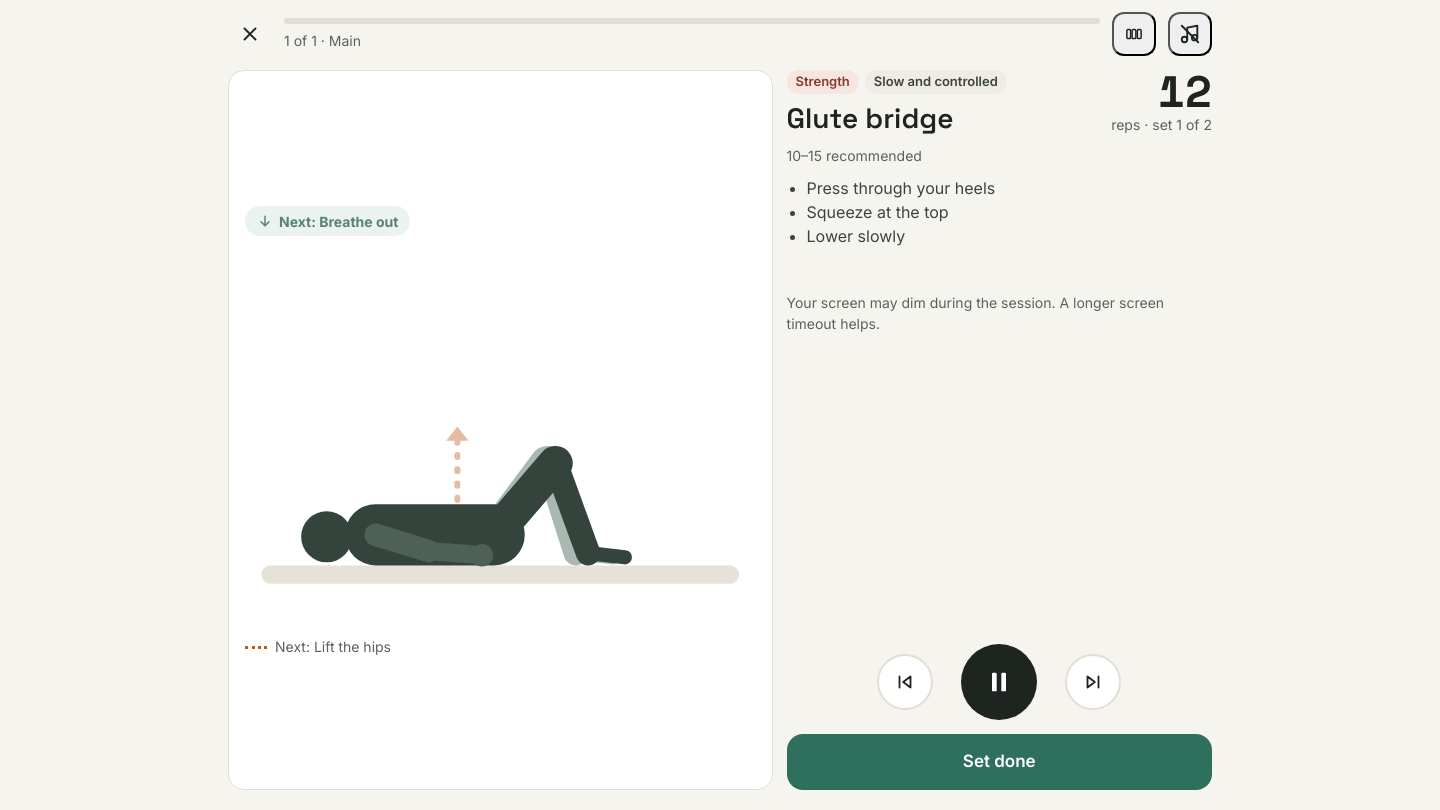
Scenario: PlayerScreen › runs a single exercise: sets, rating, summary, saved
Expected: the text "reps · set 1 of 2" is shown, [1111,116,1212,133]
Click the button "Set done": x=999, y=762 [786,734,1212,790]
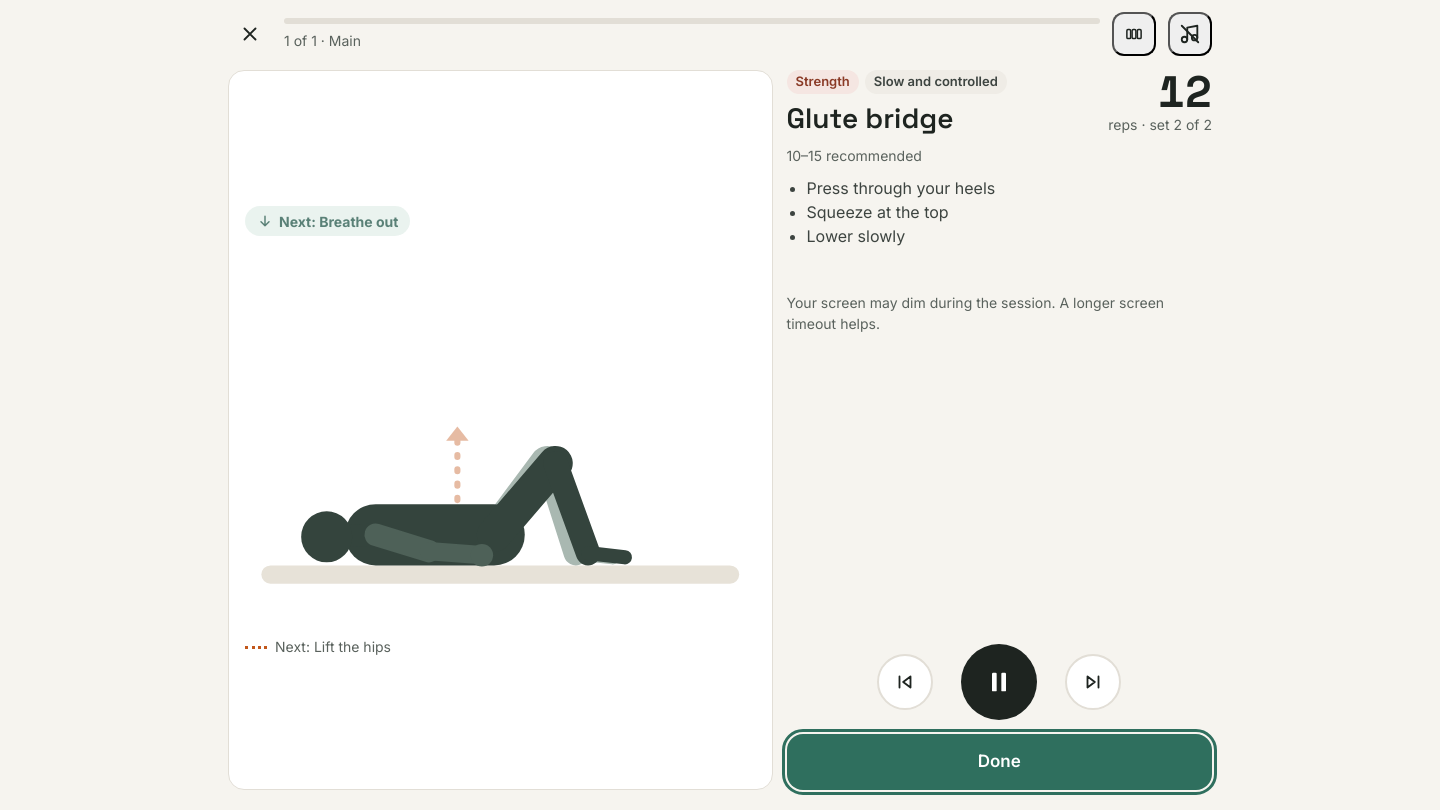
Expected: the text "reps · set 2 of 2" is shown, [1092,114,1212,135]
Click the button "Done": x=999, y=762 [786,734,1212,790]
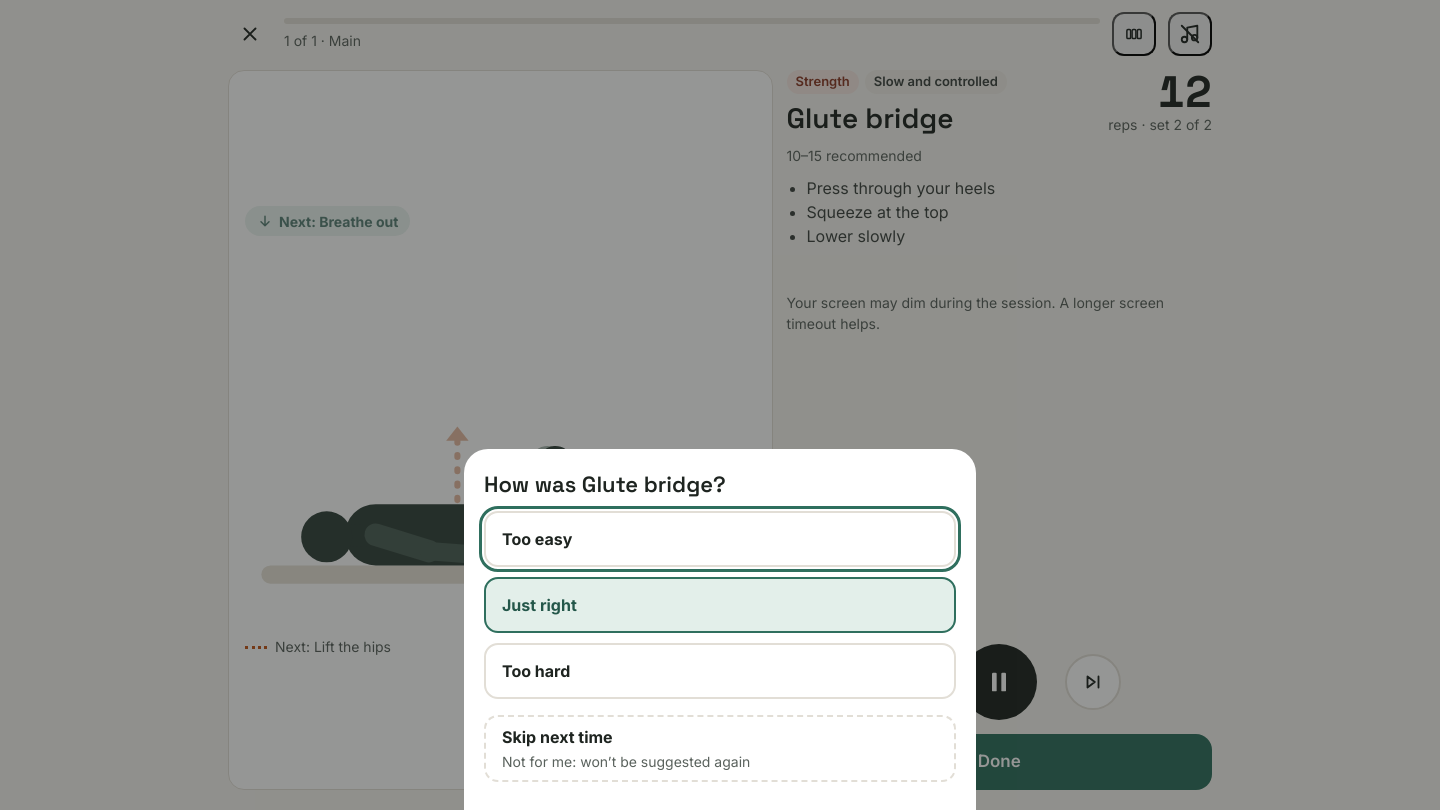
Expected: the dialog "How was Glute bridge?" is shown, [464,449,976,809]
Click the button "Just right": x=539, y=605 [484,577,956,633]
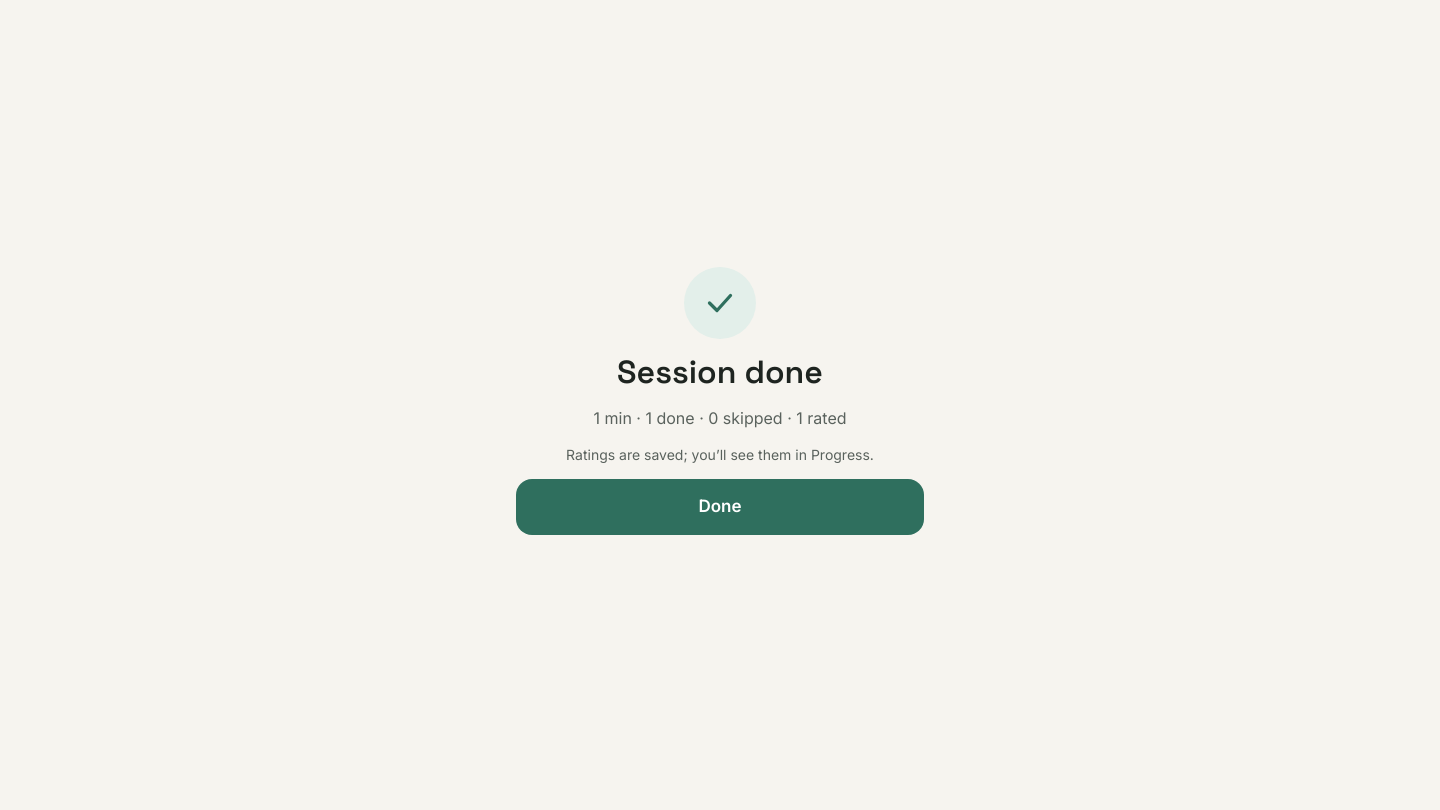
Expected: the heading "Session done" is shown, [617,353,823,392]
Expected: the text "1 min · 1 done · 0 skipped · 1 rated" is shown, [594,406,846,430]
Expected: the text "Ratings are saved; you’ll see them in Progress." is shown, [566,444,874,465]
